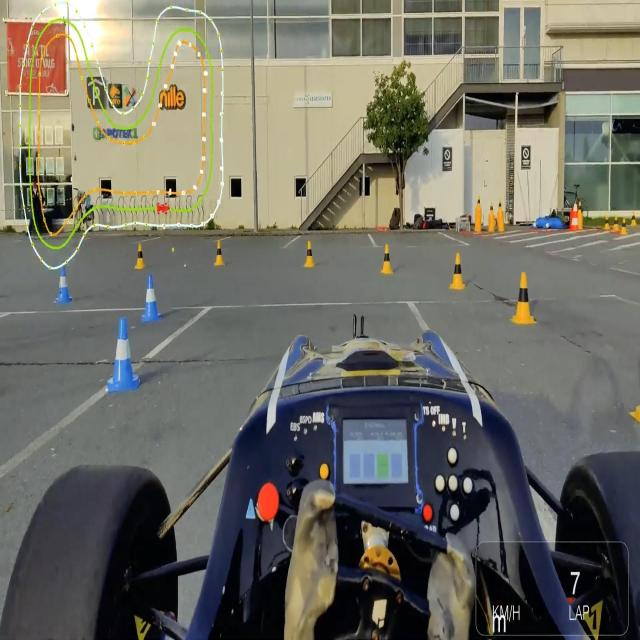blue_cone: (105, 315, 138, 395), (138, 276, 160, 322), (56, 264, 74, 307)
large_orange_cone: (569, 201, 579, 232)
yellow_cone: (510, 268, 537, 322), (449, 251, 467, 289), (380, 243, 395, 273), (214, 237, 226, 269), (134, 242, 147, 270), (302, 240, 315, 268), (475, 191, 482, 214), (620, 219, 628, 237), (612, 215, 620, 232), (629, 212, 637, 228), (488, 200, 496, 213), (604, 214, 610, 230), (577, 200, 583, 216), (499, 199, 503, 212)
